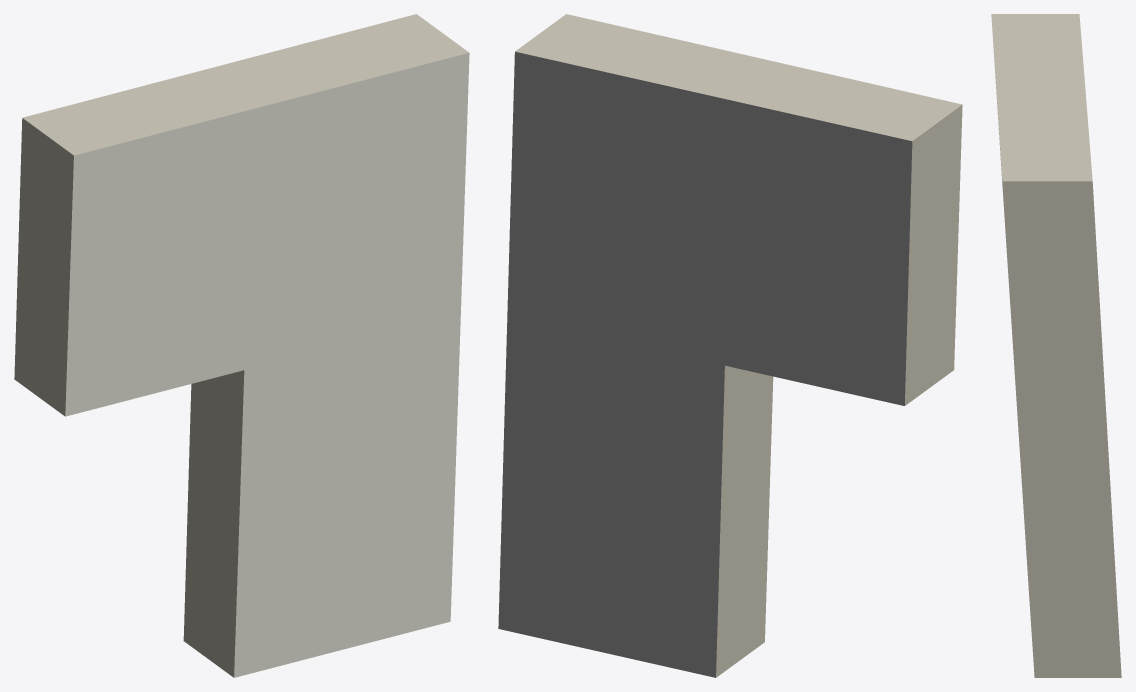
File: room_envelope_metric.obj
3 views of the same model, side by side, from view 1: azimuth 30°, elevation 25°; view 2: azimuth 150°, elevation 25°; view 3: azimuth 270°, elevation 25° (orthographic). The views are drawn at different scales.
Parts seen in each view (by area): view 1: ceiling_000, wall_005, wall_002, wall_000; view 2: floor_000, wall_005, wall_002, wall_000; view 3: wall_004, wall_005, ceiling_000.
Part boxes in pixels (left/top/right/bottom): ceiling_000: left=65, top=53, right=469, bottom=677; wall_005: left=22, top=14, right=468, bottom=155; wall_002: left=183, top=370, right=244, bottom=677; wall_000: left=14, top=118, right=73, bottom=416; floor_000: left=498, top=51, right=912, bottom=677; wall_005: left=515, top=14, right=962, bottom=141; wall_002: left=716, top=365, right=773, bottom=677; wall_000: left=905, top=105, right=962, bottom=405; wall_004: left=1002, top=181, right=1121, bottom=677; wall_005: left=991, top=14, right=1092, bottom=181; ceiling_000: left=993, top=42, right=1032, bottom=646.
Bounding box in the file's own units: 11.8 × 16.34 × 3.89.
